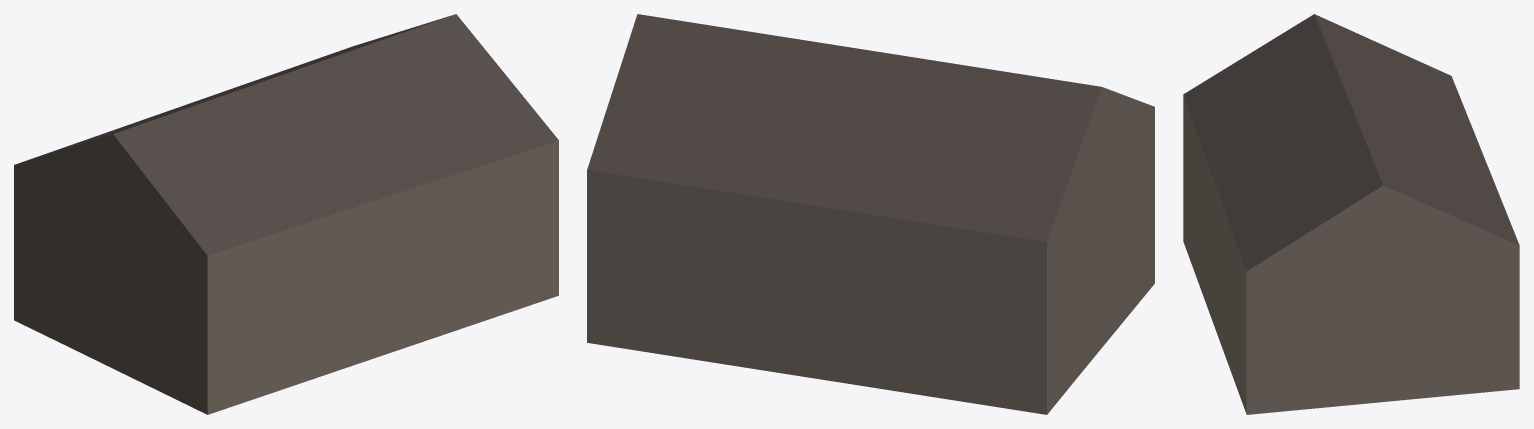
The picture shows the model from 3 angles, left to right: view 1: azimuth 30°, elevation 25°; view 2: azimuth 150°, elevation 25°; view 3: azimuth 270°, elevation 25°; orthographic projection. The views are drawn at different scales.
Parts seen in each view (by area): view 1: HP-w1196661458; view 2: HP-w1196661458; view 3: HP-w1196661458.
Boxes of the visible parts, x1,y1,x2,y2 form: HP-w1196661458: (14,14,558,414); HP-w1196661458: (587,14,1154,414); HP-w1196661458: (1183,14,1519,414).
Bounding box in the file's own units: 17.53 × 9.06 × 12.75.
